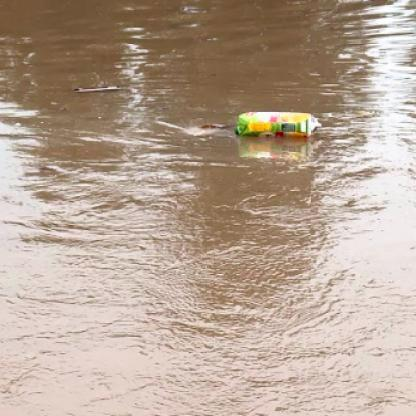Trash: (235, 106, 322, 139)
